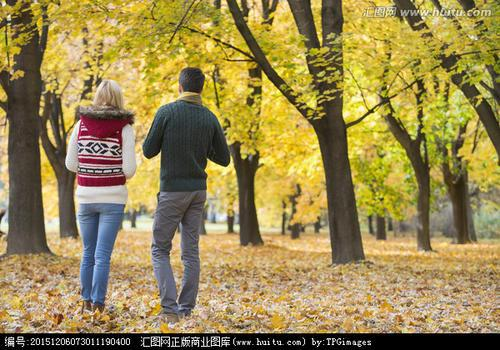up: (141, 66, 230, 314), (63, 78, 137, 313)
